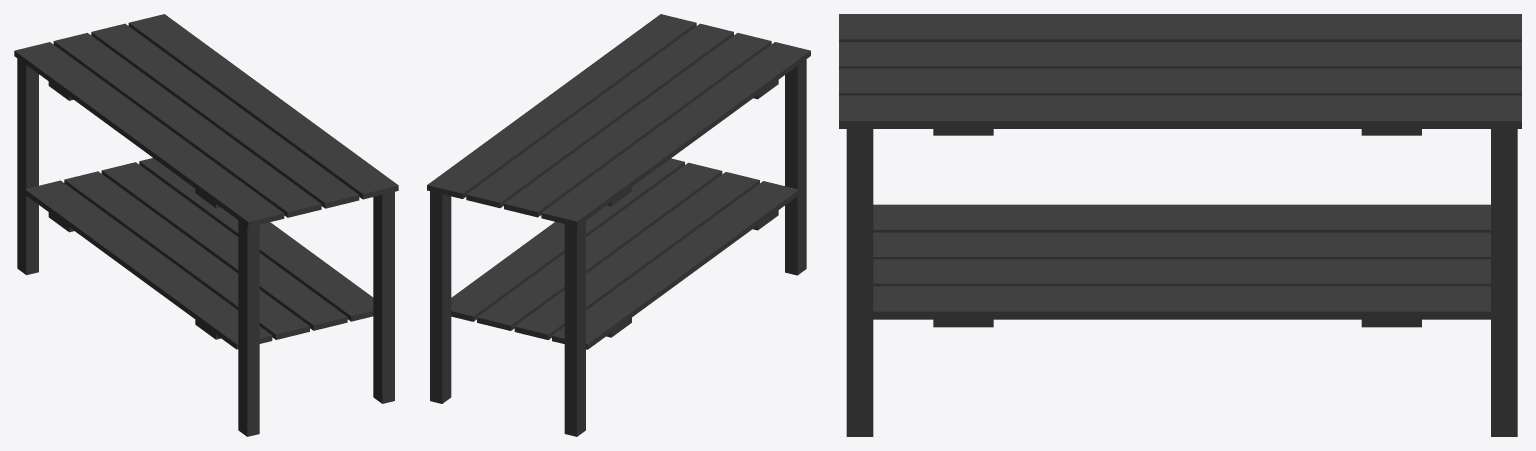
The model's file is Laundry_shelve_stand1.fbx.
3 views of the same model, side by side, from view 1: azimuth 30°, elevation 25°; view 2: azimuth 150°, elevation 25°; view 3: azimuth 270°, elevation 25° (orthographic). The views are drawn at different scales.
Parts seen in each view (by area): view 1: Laundry_shelve_stand1; view 2: Laundry_shelve_stand1; view 3: Laundry_shelve_stand1.
Part boxes in pixels (bbox=[...]): Laundry_shelve_stand1: bbox=[14, 14, 398, 436]; Laundry_shelve_stand1: bbox=[427, 14, 810, 436]; Laundry_shelve_stand1: bbox=[839, 14, 1521, 436].
Bounding box in the file's own units: 63.32 × 87.44 × 171.
